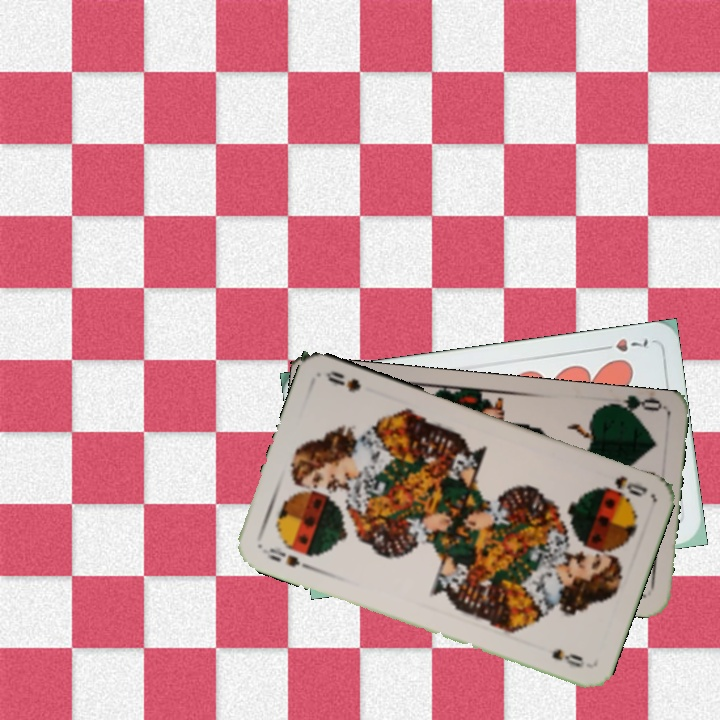GO: (604, 393, 663, 422)
H7: (594, 334, 651, 355)
SO: (258, 543, 315, 573), (599, 471, 650, 500)
